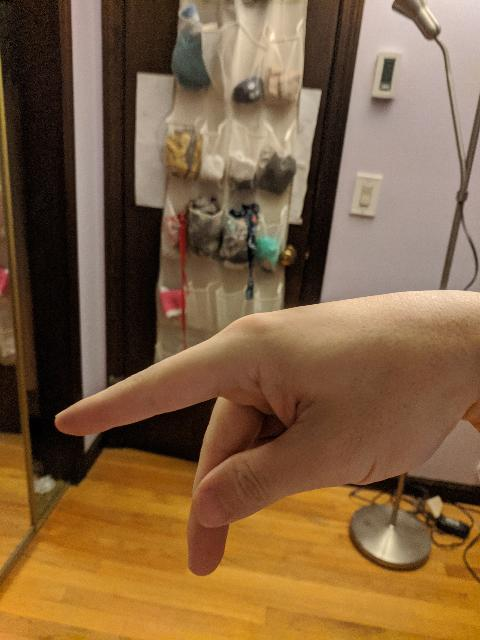P: (48, 282, 467, 580)
